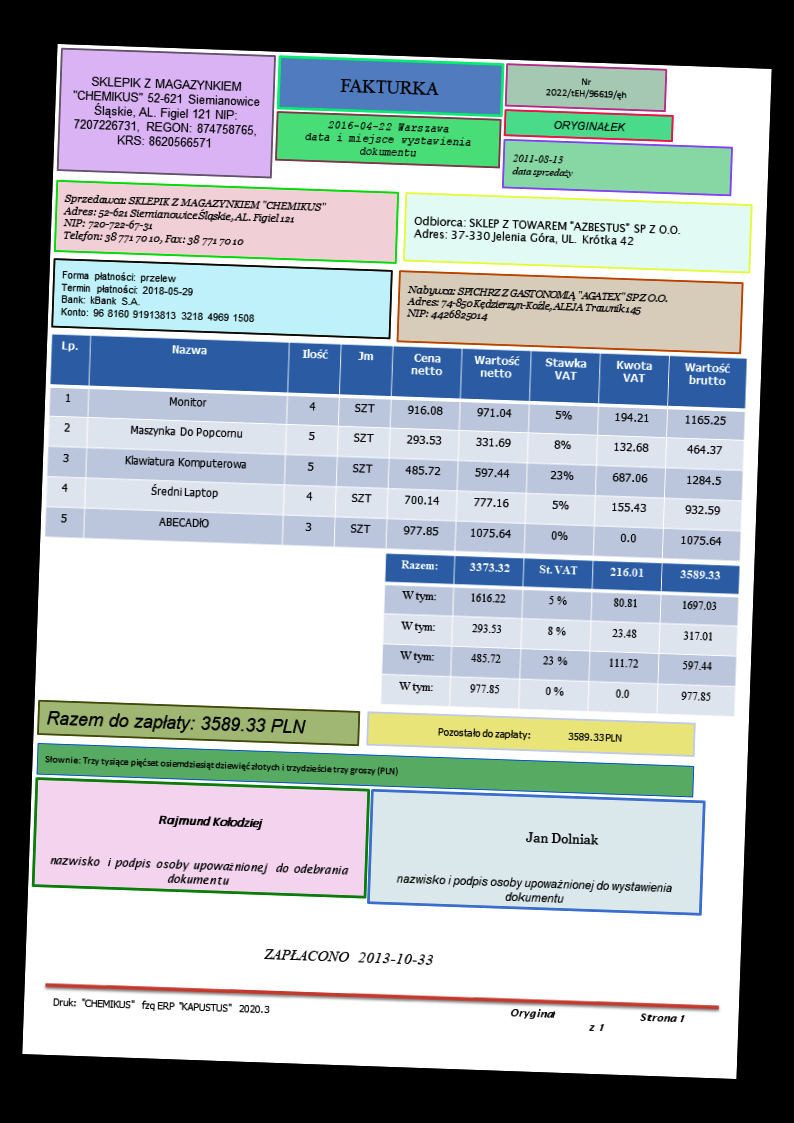Table: (43, 333, 748, 562), (379, 551, 741, 718)
TextBox: (59, 190, 330, 252), (69, 72, 263, 153), (405, 281, 670, 330), (47, 853, 350, 892), (57, 267, 257, 325), (394, 870, 673, 909), (411, 213, 683, 250), (41, 752, 400, 778), (44, 705, 309, 737), (302, 117, 474, 162), (508, 1006, 687, 1036), (51, 994, 271, 1016), (263, 945, 434, 968), (436, 725, 623, 745), (336, 75, 441, 99), (544, 75, 629, 103), (155, 812, 264, 832), (509, 151, 574, 180), (523, 828, 602, 849), (551, 116, 628, 134)
